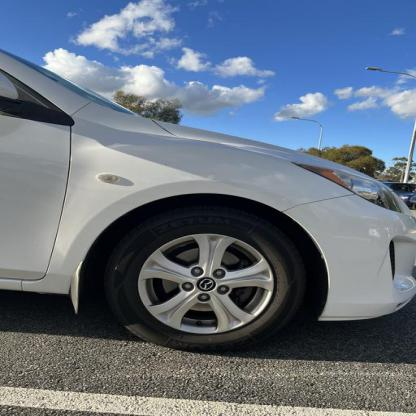Tire: (98, 208, 308, 352)
